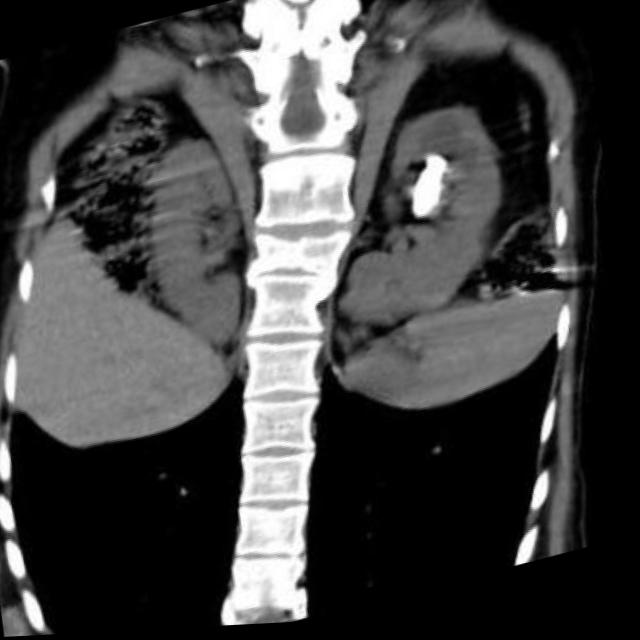Tas_Var: (399, 149, 467, 229)
